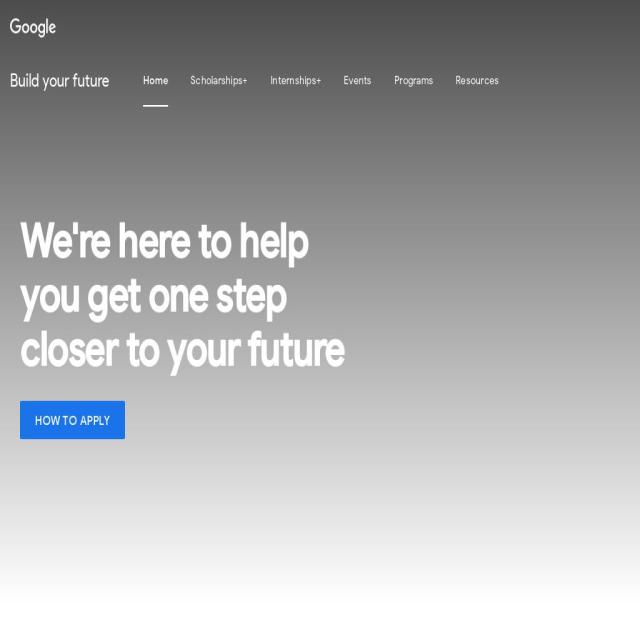button: (20, 400, 126, 439), (143, 61, 218, 94), (10, 3, 56, 50)
heading: (20, 214, 365, 378)
image: (0, 0, 640, 607), (10, 18, 56, 38)
link: (191, 62, 248, 99), (271, 62, 321, 99), (456, 62, 500, 99), (394, 62, 434, 99), (344, 62, 372, 99), (143, 62, 168, 99)
text: (10, 69, 109, 92), (35, 412, 111, 429), (150, 69, 212, 86)
